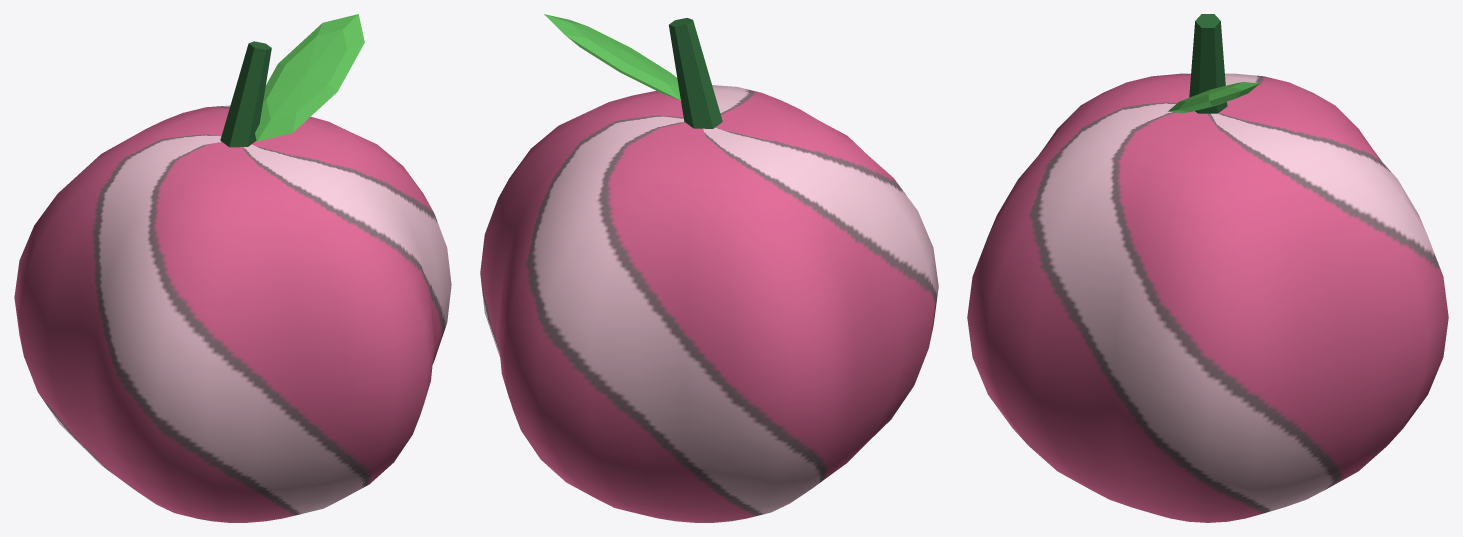
Rendered from Fruit_HanaHana.fbx.
3 renders of one model, left to right at view 1: azimuth 30°, elevation 25°; view 2: azimuth 150°, elevation 25°; view 3: azimuth 270°, elevation 25°, orthographic. The views are drawn at different scales.
Visible parts, largest first — view 1: Fruit_HanaHana; view 2: Fruit_HanaHana; view 3: Fruit_HanaHana.
Part boxes in pixels (x1,y1,x2,y2): Fruit_HanaHana: [14, 14, 451, 522]; Fruit_HanaHana: [480, 14, 938, 522]; Fruit_HanaHana: [967, 14, 1448, 522].
Bounding box in the file's own units: 1.63 × 1.9 × 1.69.
Materials: 1 (1 with a texture image).
